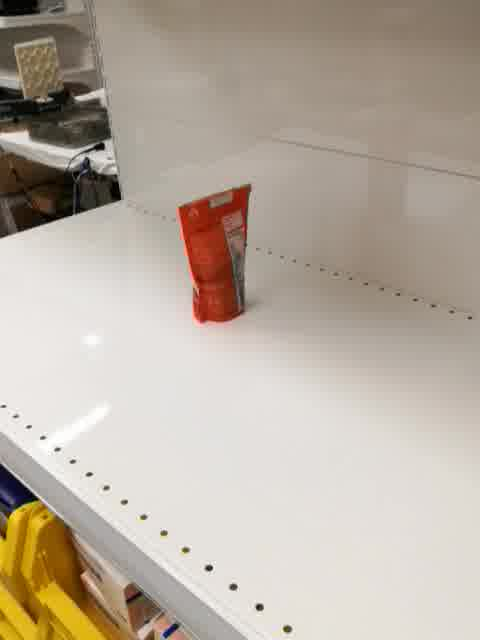whitechia: (175, 177, 255, 327)
